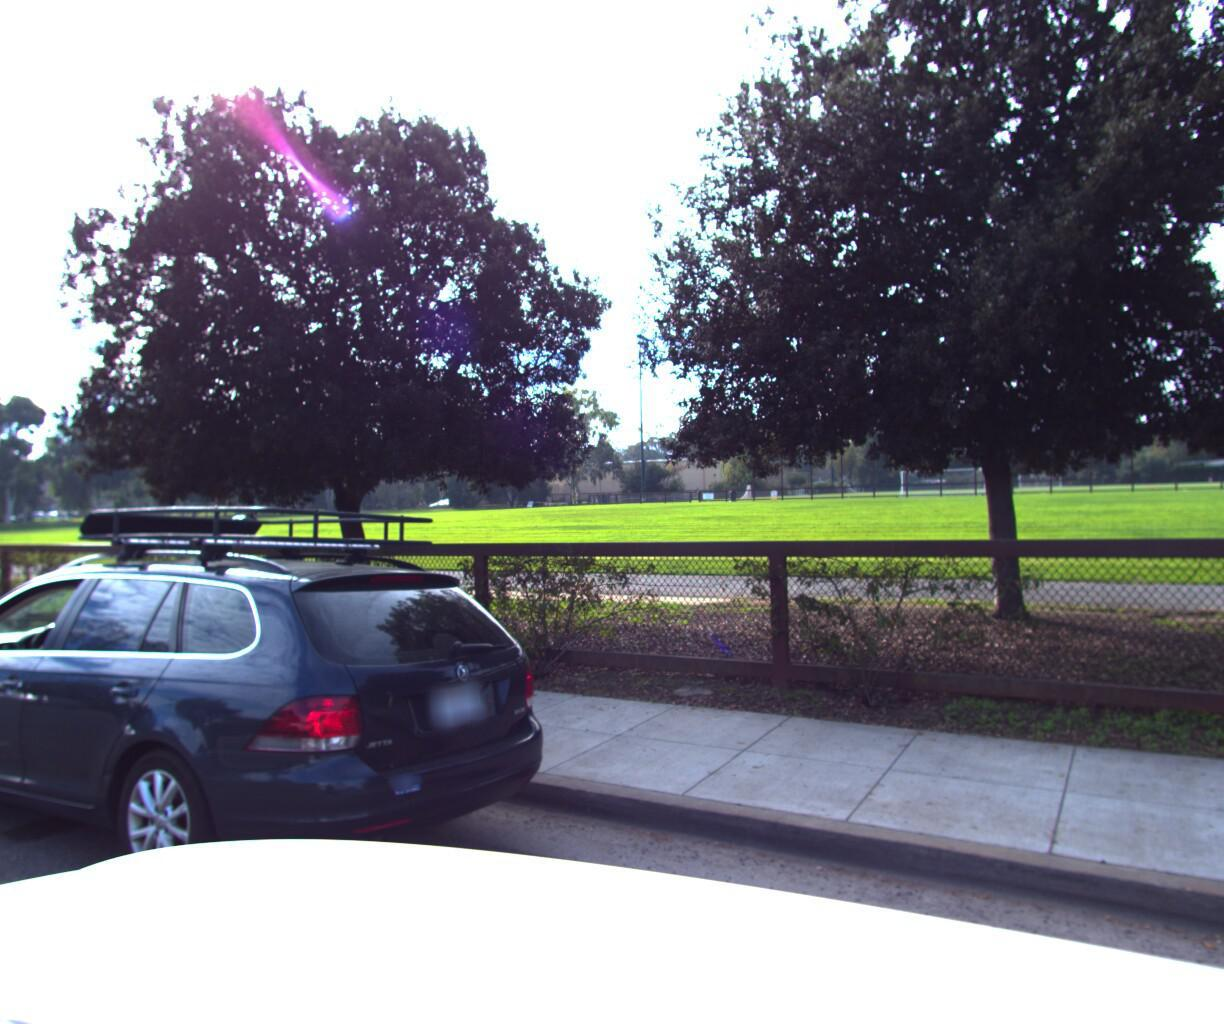car: (0, 487, 590, 999)
